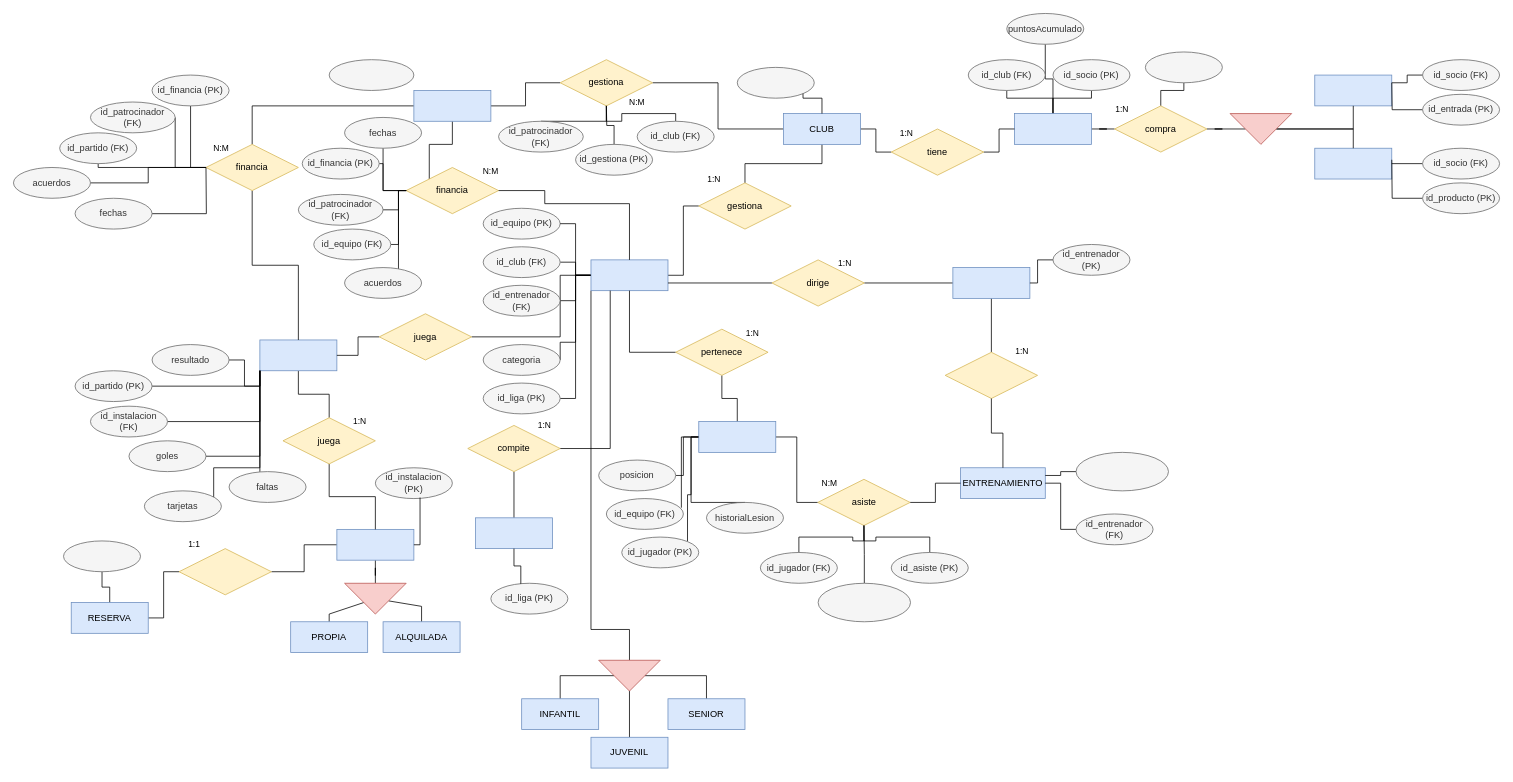
This 1513x782 diagram has some shape labels left out. The centre of each missing label's shape, as x and y in pixels:
"ENTRADA" belongs at point (1353, 90).
"ENTRENADOR" belongs at point (991, 282).
"EQUIPO" belongs at point (629, 275).
"id_club (PK)" belongs at point (775, 82).
"id_entrenamiento (FK)" belongs at point (864, 602).
"id_entrenamiento (PK)" belongs at point (1121, 471).
"id_patrocinador (PK)" belongs at point (371, 74).
"id_reserva (PK)" belongs at point (102, 556).
"INSTALACION DEPORTIVA" belongs at point (375, 544).
"JUGADOR" belongs at point (737, 436).
"LIGA/ COMPETICION" belongs at point (513, 533).
"PARTIDO" belongs at point (298, 355).
"PATROCINADOR" belongs at point (452, 105).
"planifica" belongs at point (991, 375).
"PRODUCTO" belongs at point (1353, 163).
"puntos" belongs at point (1183, 67).
"requiere" belongs at point (224, 571).
"SOCIO" belongs at point (1052, 128).
